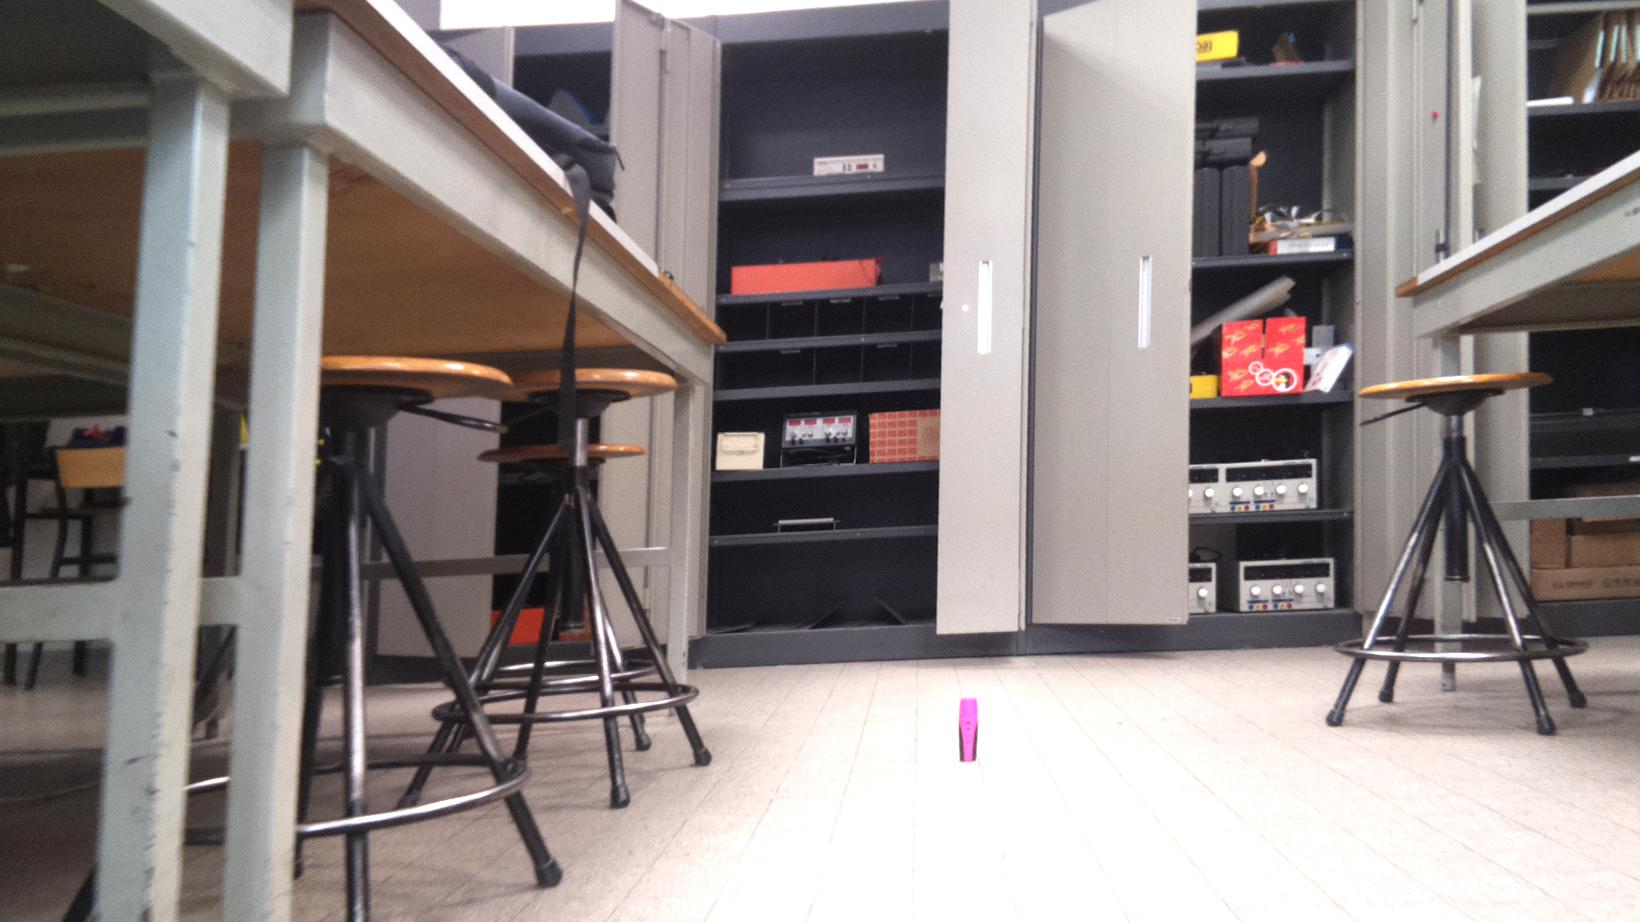small: (951, 692, 984, 768)
